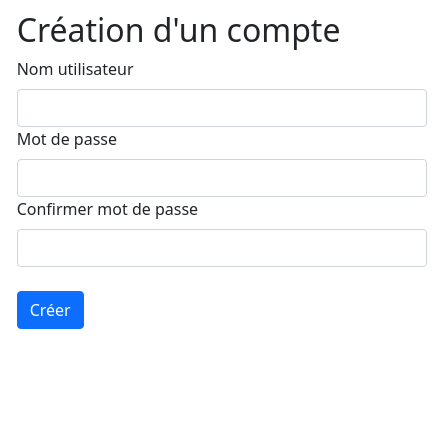
Création d'un compte client › Le nom et le deuxième champ mot de passe ont été entrées
Type "nomAjoute" into the field labelled "Nom utilisateur" at point(222, 108), box [17,89,427,127]
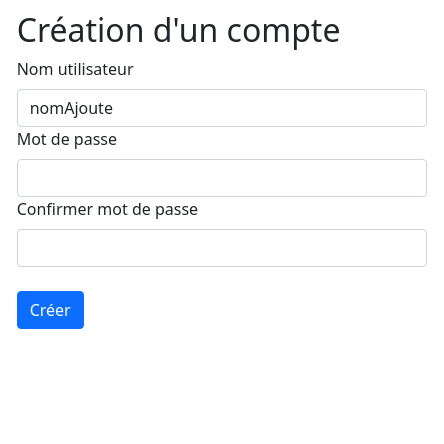
Type "motDePasseAjoute" into the password field labelled "Mot de passe" at point(222, 178), box [17,159,427,197]
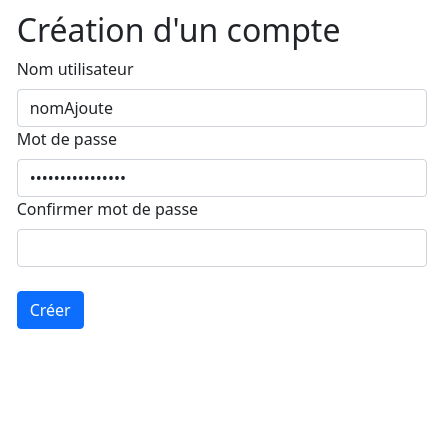
Click the button "Créer" at point(50, 310), box [17,291,84,329]
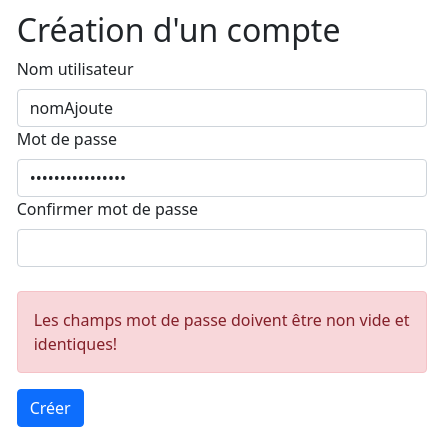
Expected: the message reads "Les champs mot de passe doivent être non vide et identiques!", [34,309,410,355]
